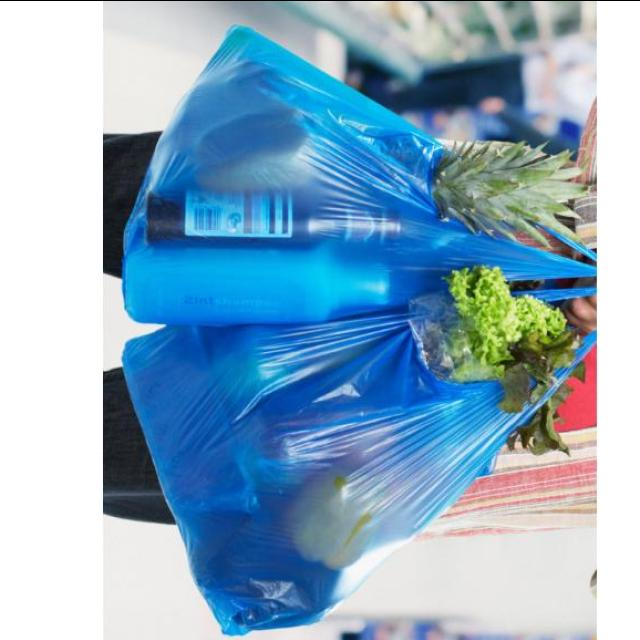plastik: (124, 27, 595, 323), (123, 309, 533, 634)
